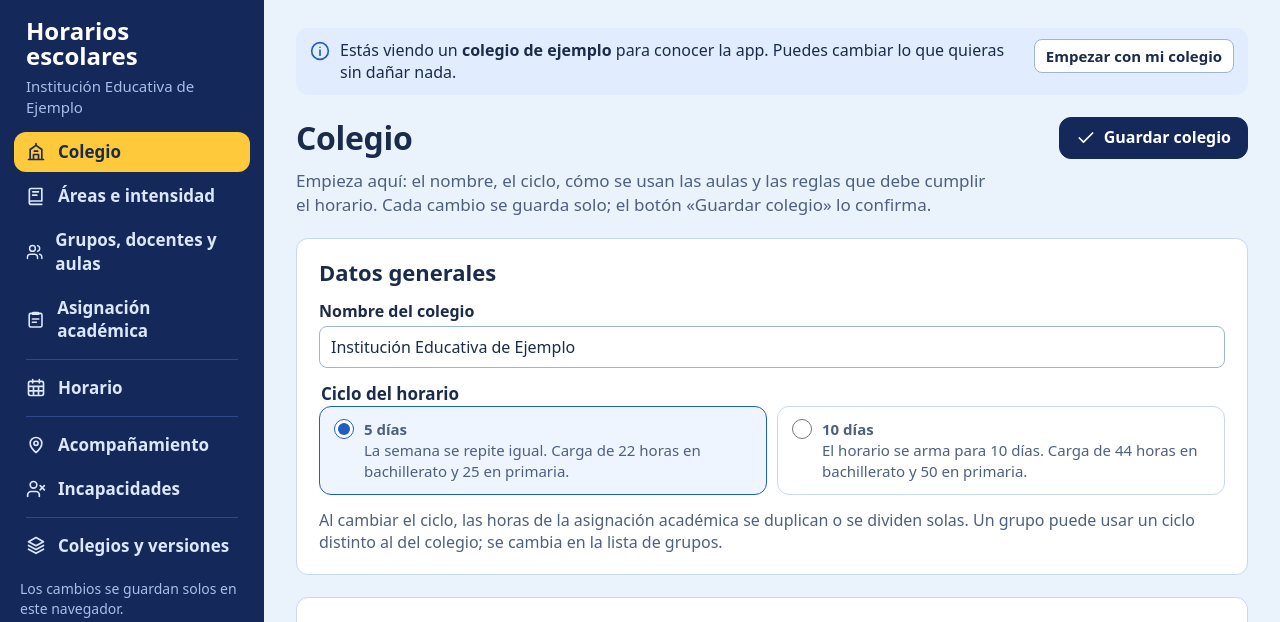
Scenario: la app › avisa que es un colegio de ejemplo y permite empezar con el propio tras confirmar
This screenshot has width=1280, height=622.
Click the button "Empezar con mi colegio" at (1134, 56), box 1034,39 -> 1234,73
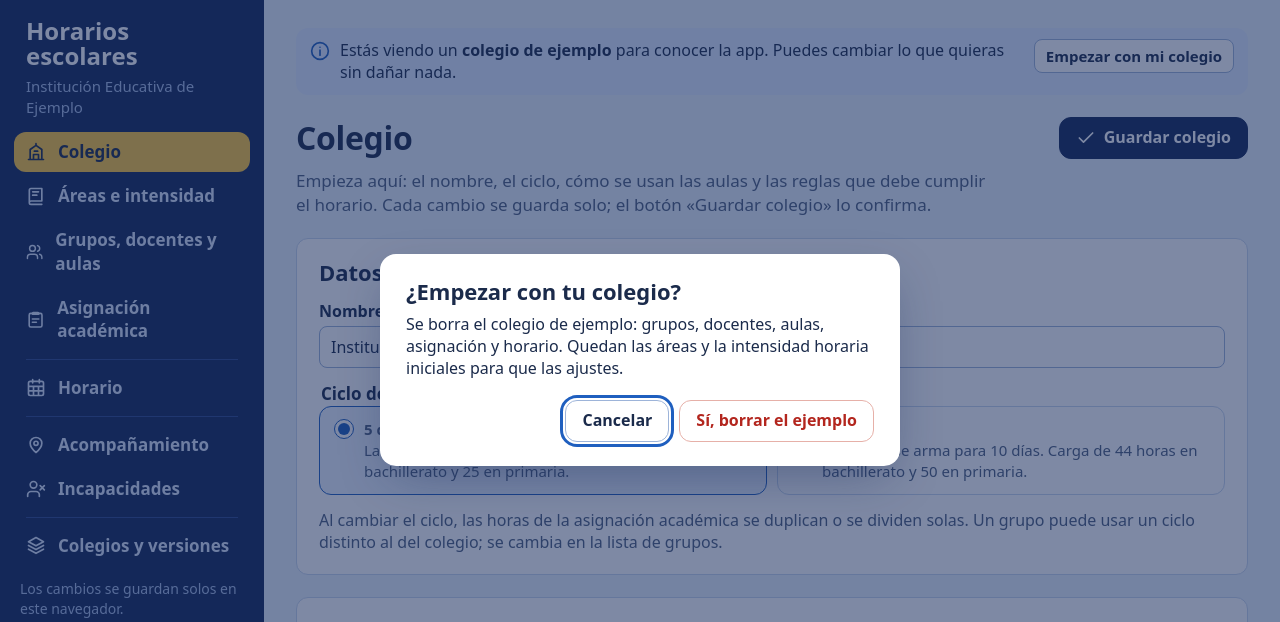
Click the button "Sí, borrar el ejemplo" at (777, 421), box 679,400 -> 874,442
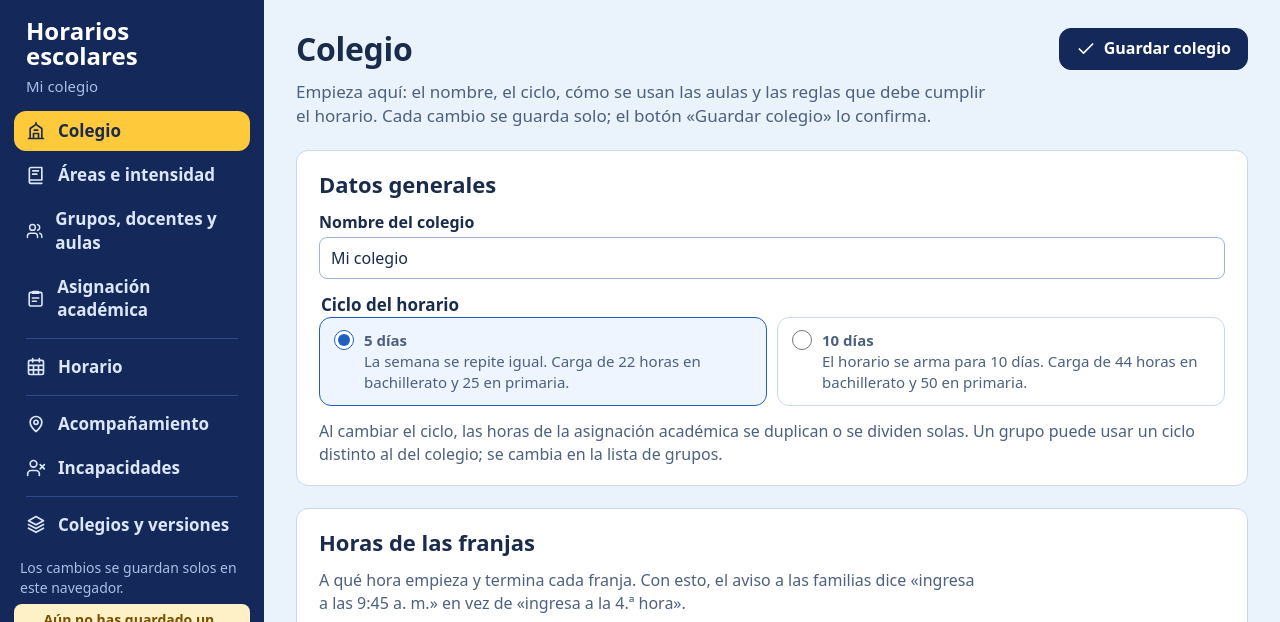
Click the button "Grupos, docentes y aulas" at (132, 231), box 14,199 -> 250,263
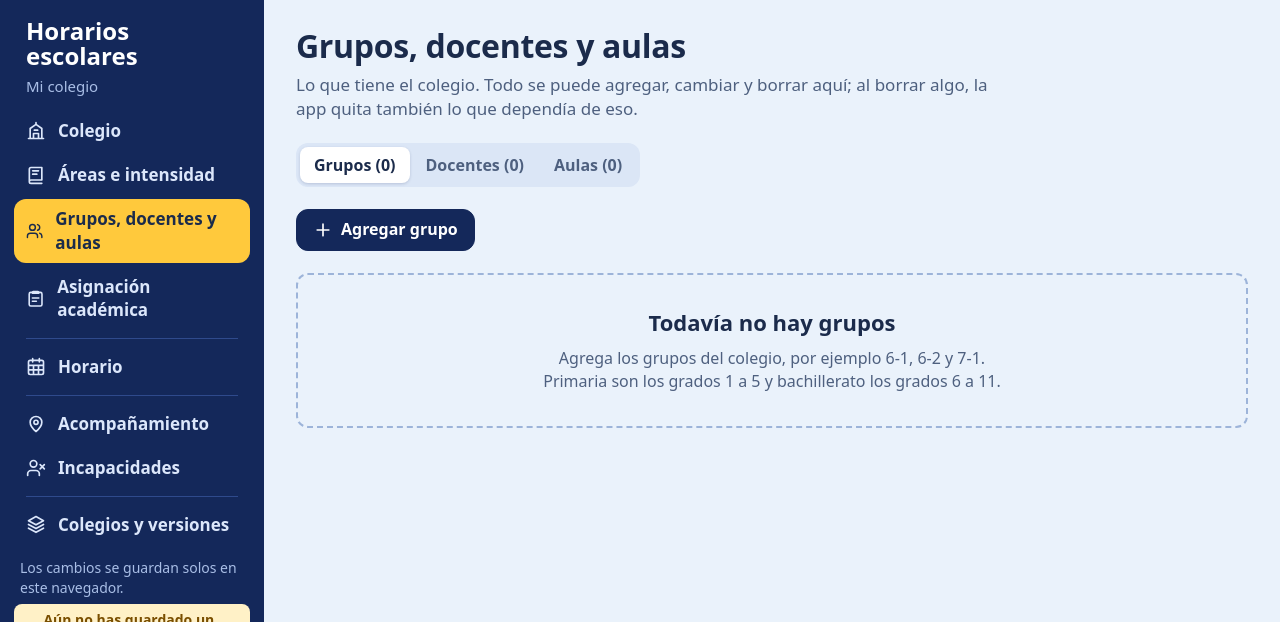
Result: the heading "Todavía no hay grupos" is shown at 648,309 -> 895,335
